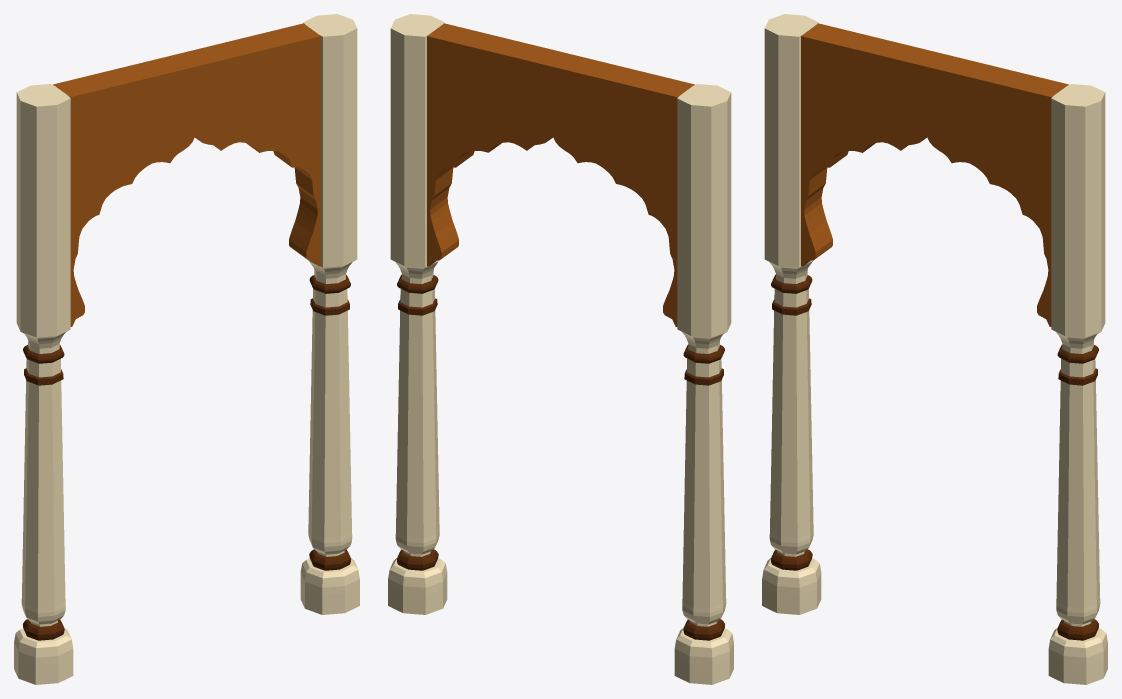
File: PortalTaj.obj
3 views of the same model, side by side, from view 1: azimuth 30°, elevation 25°; view 2: azimuth 150°, elevation 25°; view 3: azimuth 330°, elevation 25° (orthographic).
Visible parts, largest first — view 1: Cube.009_Cube.006; view 2: Cube.009_Cube.006; view 3: Cube.009_Cube.006.
Boxes of the visible parts, bbox=[...] form: Cube.009_Cube.006: bbox=[14, 14, 359, 684]; Cube.009_Cube.006: bbox=[388, 14, 733, 684]; Cube.009_Cube.006: bbox=[762, 14, 1107, 684].
Bounding box in the file's own units: 4.04 × 6.6 × 0.6072.
